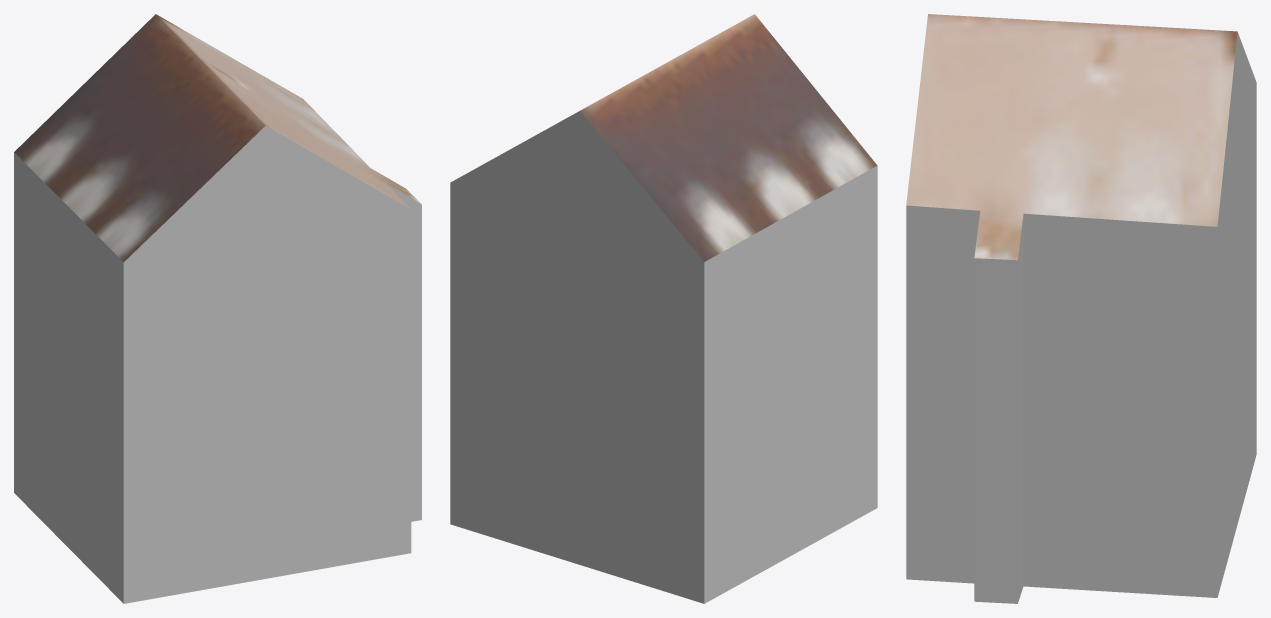
The model's file is DEBW_0010007Tx5k.gltf.
3 renders of one model, left to right at view 1: azimuth 30°, elevation 25°; view 2: azimuth 150°, elevation 25°; view 3: azimuth 270°, elevation 25°, orthographic. The views are drawn at different scales.
Visible parts, largest first — view 1: Z_UP; view 2: Z_UP; view 3: Z_UP.
Part boxes in pixels (box(x1,y1,x2,y2)): Z_UP: box(14, 14, 421, 603); Z_UP: box(450, 14, 877, 603); Z_UP: box(906, 14, 1256, 603).
Size of the model in its own units: 11.06 by 15.27 by 9.83.
Materials: 2 (1 with a texture image).
